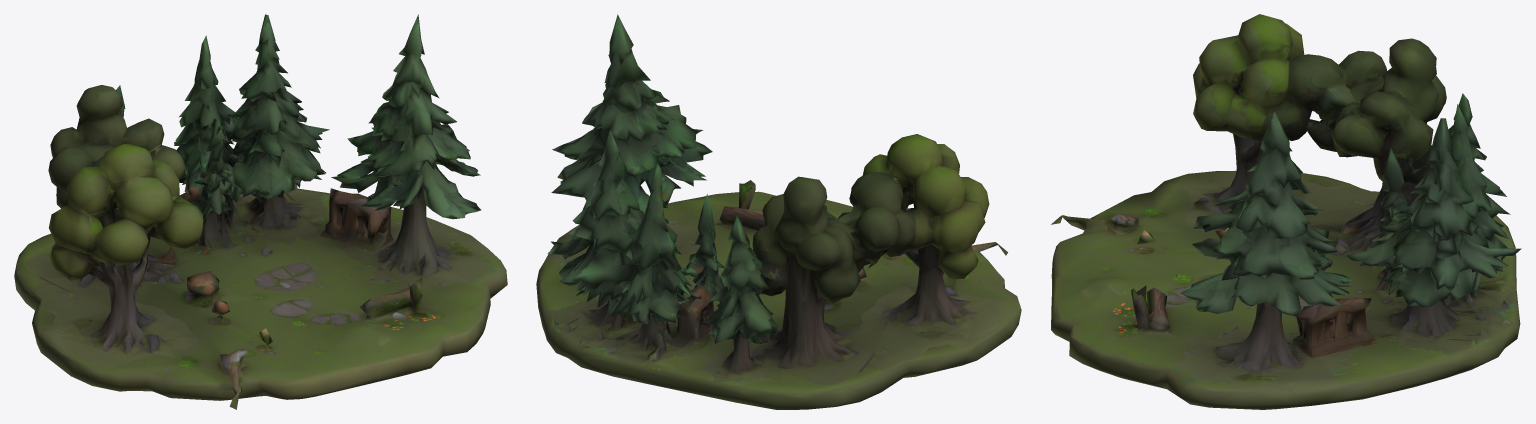
The model's file is FOREST_GROVE_low_pol_0809101112_texture.fbx.
3 views of the same model, side by side, from view 1: azimuth 30°, elevation 25°; view 2: azimuth 150°, elevation 25°; view 3: azimuth 270°, elevation 25° (orthographic). The views are drawn at different scales.
Parts seen in each view (by area): view 1: Mesh1.0; view 2: Mesh1.0; view 3: Mesh1.0.
Boxes of the visible parts, bbox=[...] form: Mesh1.0: bbox=[14, 14, 507, 409]; Mesh1.0: bbox=[536, 14, 1021, 409]; Mesh1.0: bbox=[1051, 14, 1521, 409].
Bounding box in the file's own units: 200 × 119 × 180.
1 material, 1 textured.
